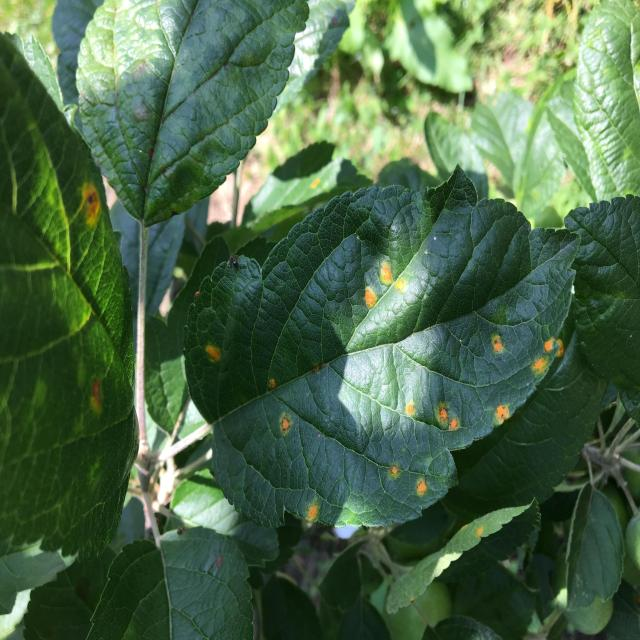Rust: (64, 161, 119, 248), (85, 356, 124, 436), (192, 328, 235, 392), (262, 410, 311, 464), (486, 394, 530, 451), (392, 362, 426, 432), (282, 488, 324, 542), (434, 397, 466, 453), (354, 267, 381, 333), (376, 246, 406, 304), (476, 322, 511, 365), (526, 337, 547, 392), (410, 468, 434, 511), (382, 452, 406, 494), (545, 328, 570, 367)
